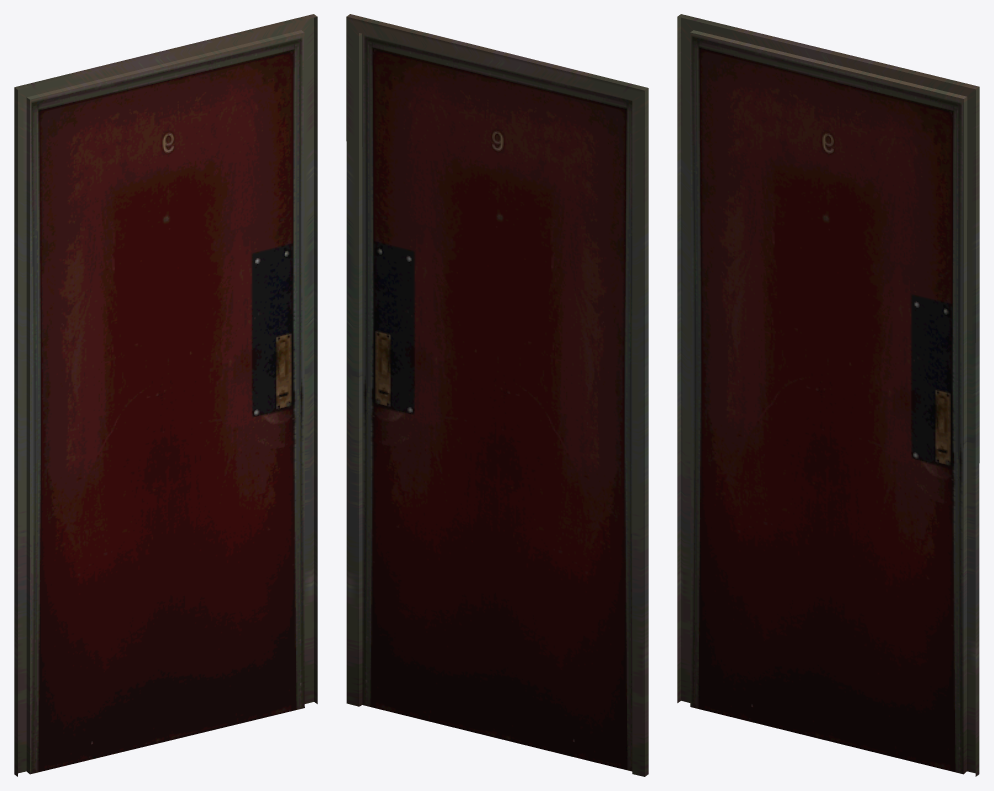
File: pH09_Door.fbx
3 renders of one model, left to right at view 1: azimuth 30°, elevation 25°; view 2: azimuth 150°, elevation 25°; view 3: azimuth 330°, elevation 25°, orthographic.
Visible parts, largest first — view 1: ph09_Door; view 2: ph09_Door; view 3: ph09_Door.
Boxes of the visible parts, bbox=[...] form: ph09_Door: bbox=[14, 14, 317, 776]; ph09_Door: bbox=[346, 14, 648, 776]; ph09_Door: bbox=[677, 14, 979, 776].
Size of the model in its own units: 0.9092 by 2 by 0.0235.
